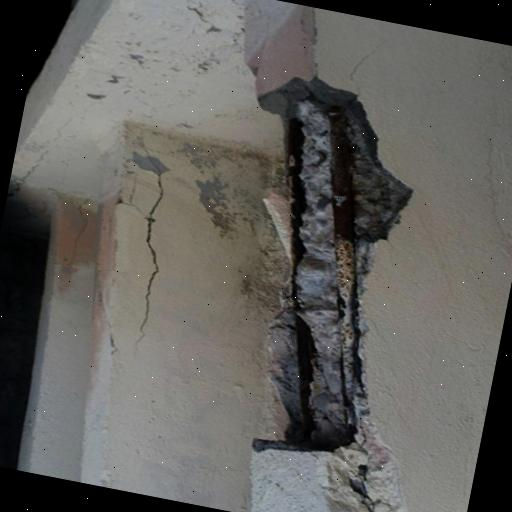spalling: (257, 79, 413, 512), (125, 136, 171, 345)
